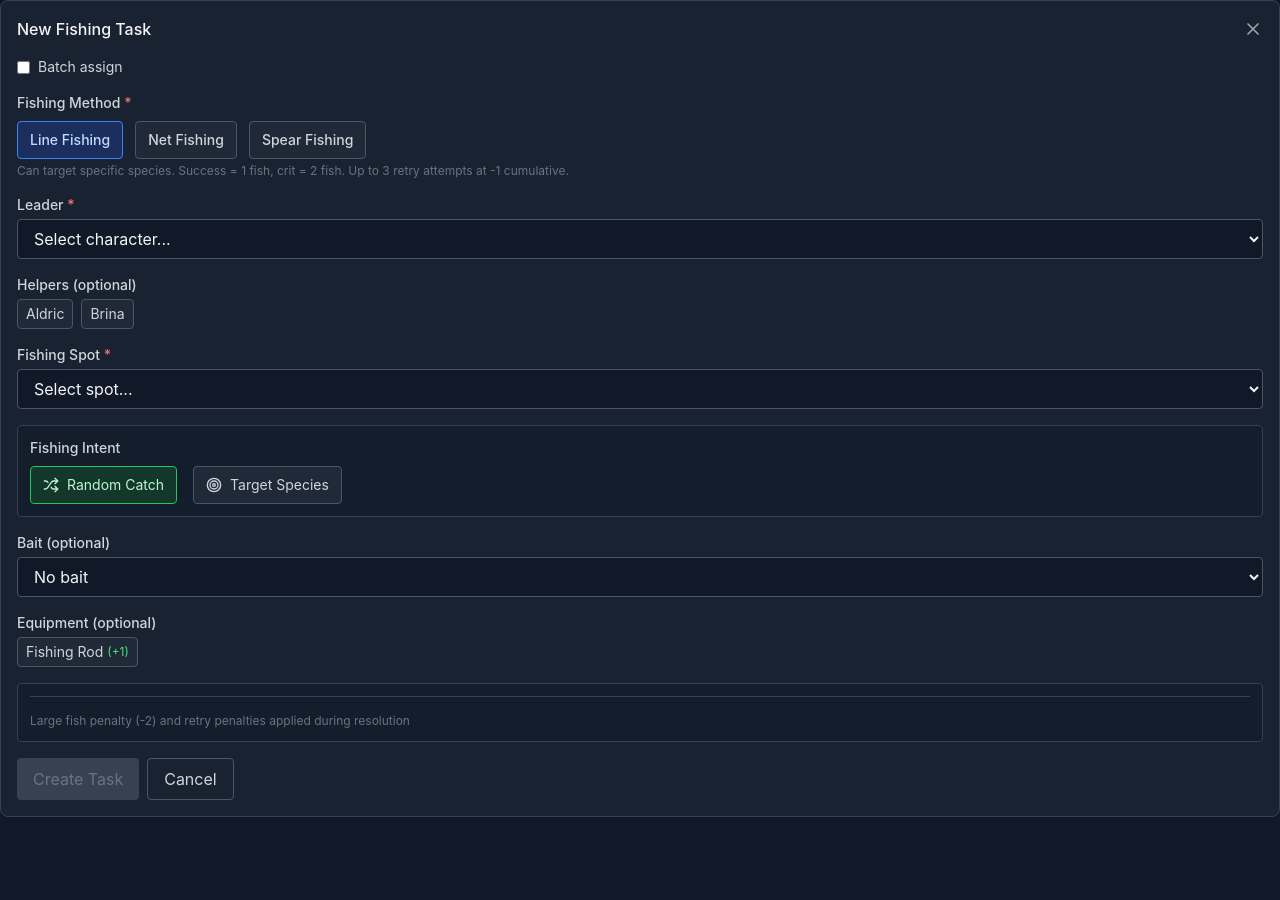
Test: FishingTaskForm › interactions › enables submit button when required fields are filled (random catch mode)
For random catch mode, only leader and spot are required
Select "Aldric" in the dropdown with test id "leader-select" at (640, 239), box [17, 219, 1263, 259]
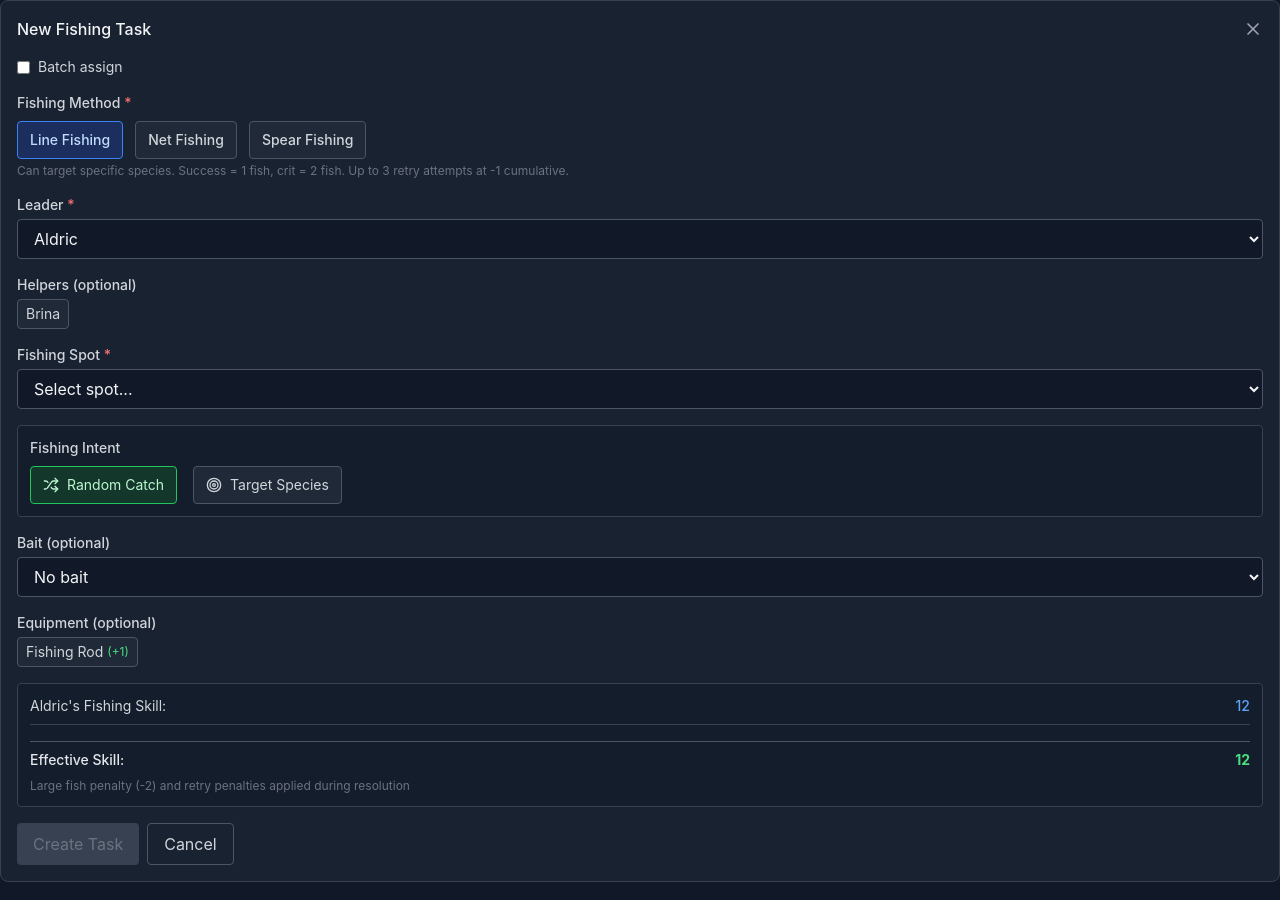
Select "River Bank" in the dropdown with test id "spot-select" at (640, 389), box [17, 369, 1263, 409]
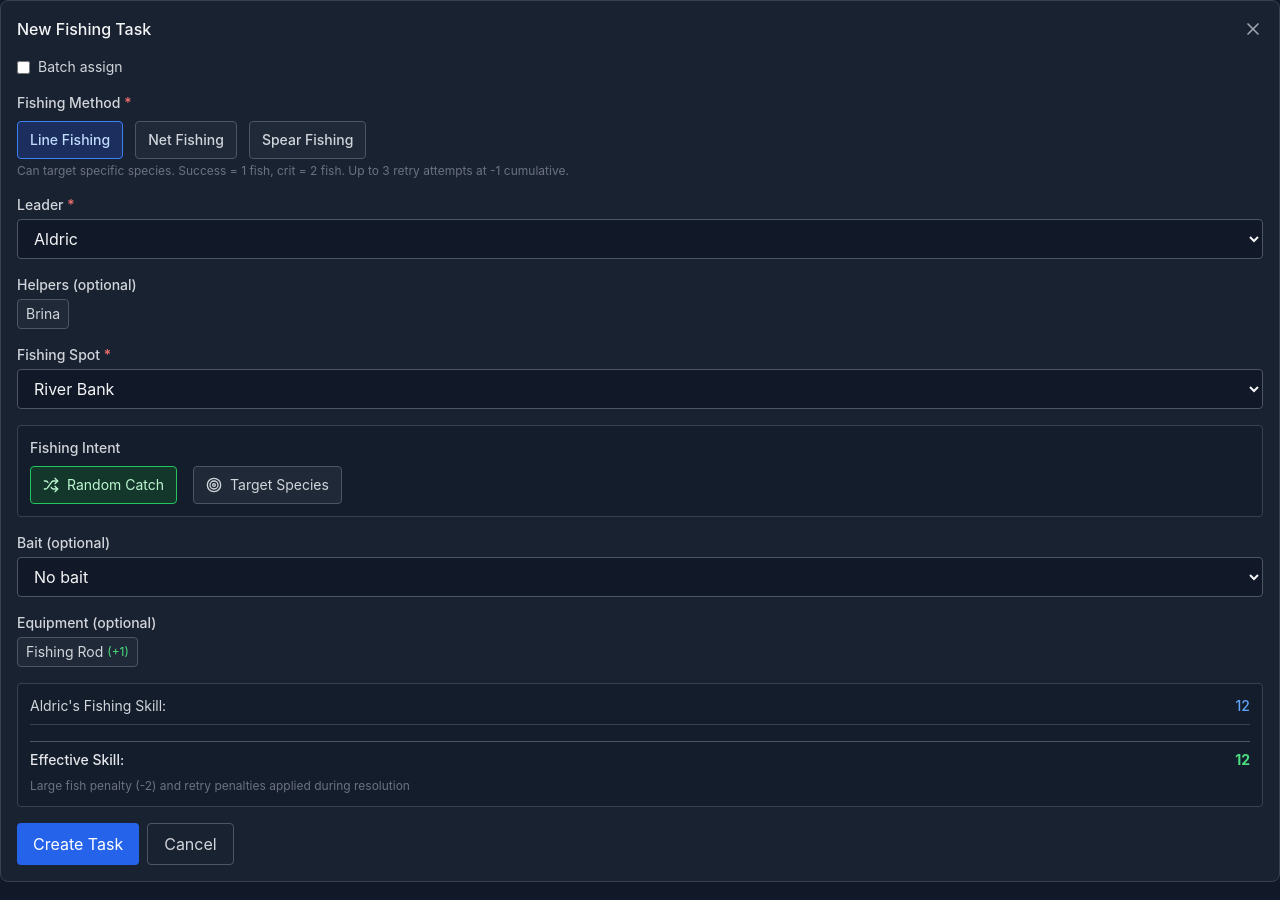
Expected: the button with test id "submit-button" is enabled, [17, 823, 139, 865]
